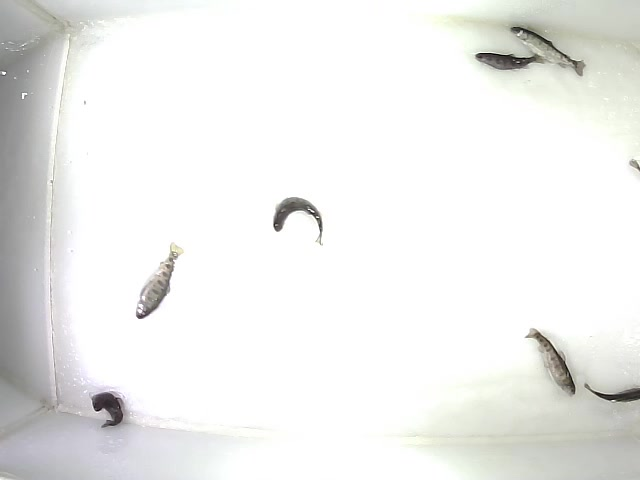fish: (134, 241, 186, 320), (509, 26, 588, 78), (523, 326, 576, 398), (272, 196, 325, 248), (88, 389, 125, 429), (474, 51, 547, 71)
